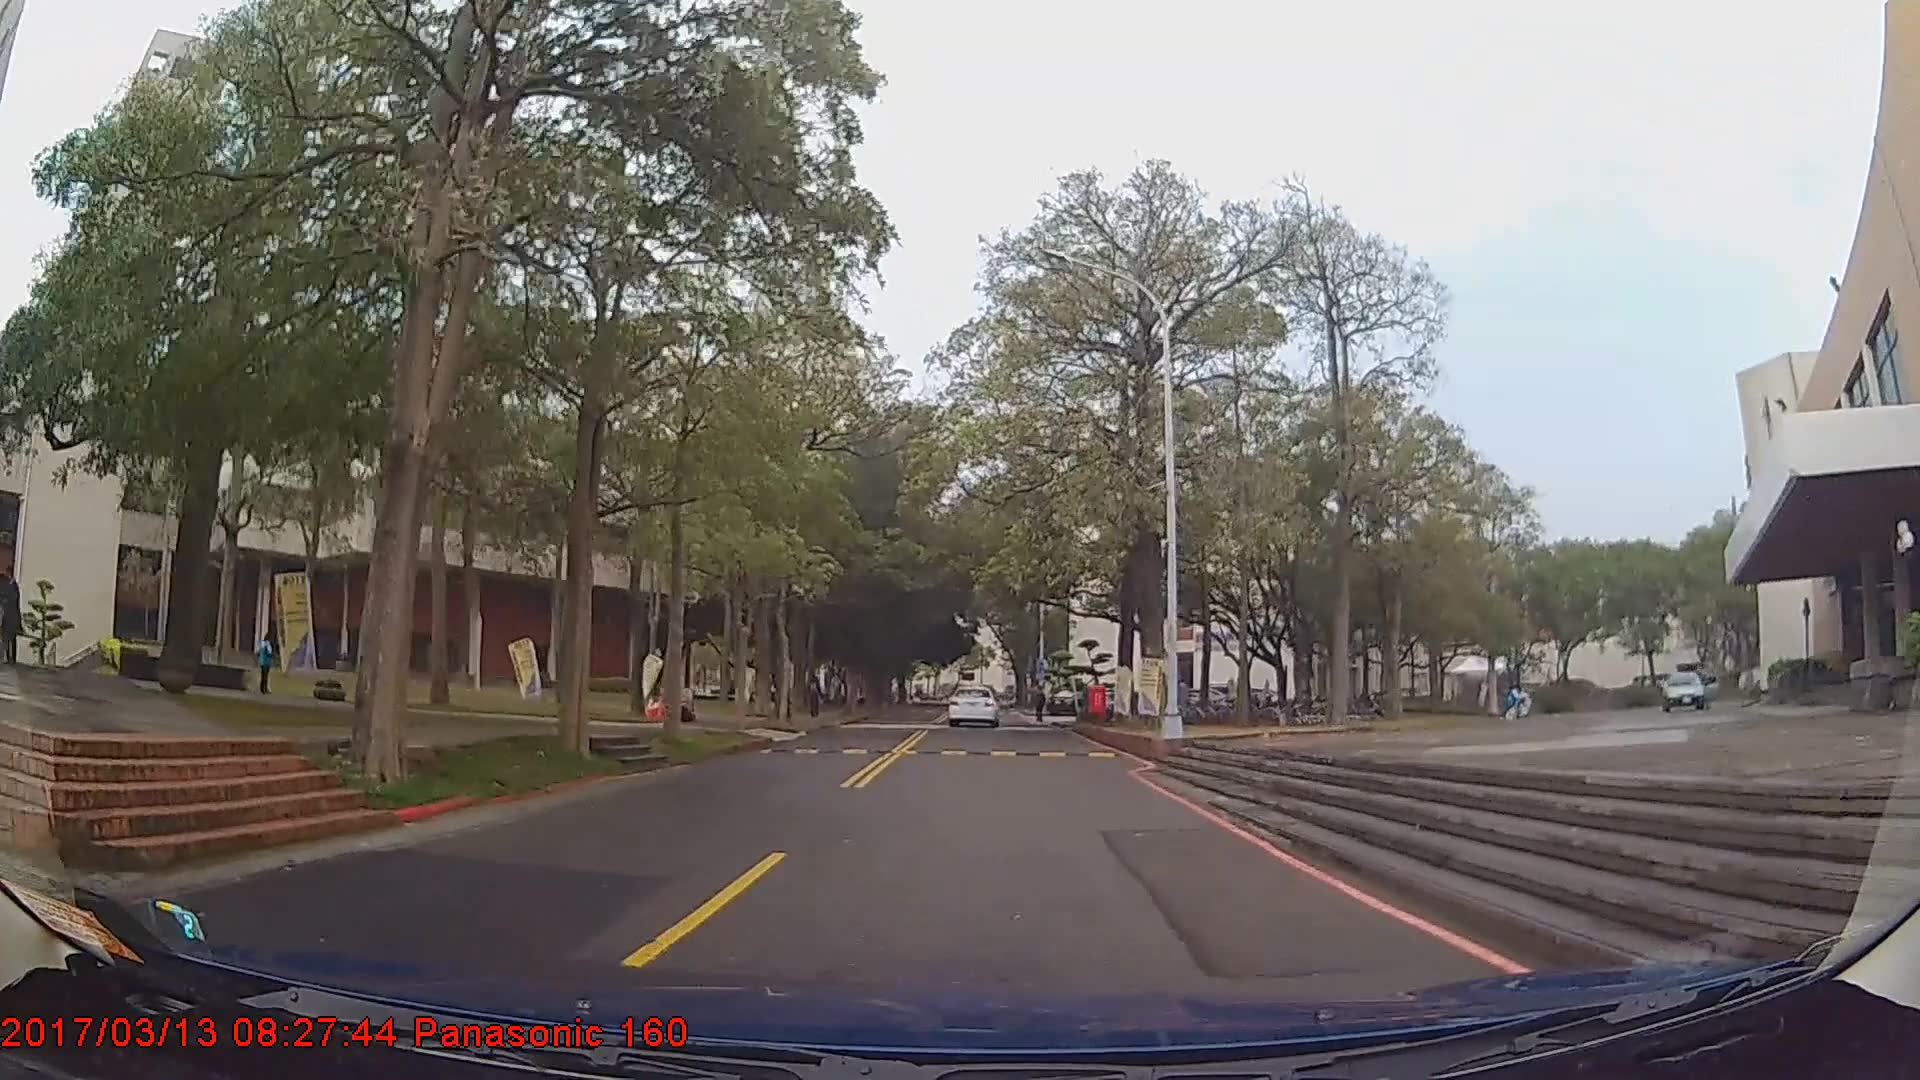pedestrian: (256, 634, 277, 693)
vehicle: (1657, 665, 1722, 710), (946, 683, 1000, 729)
